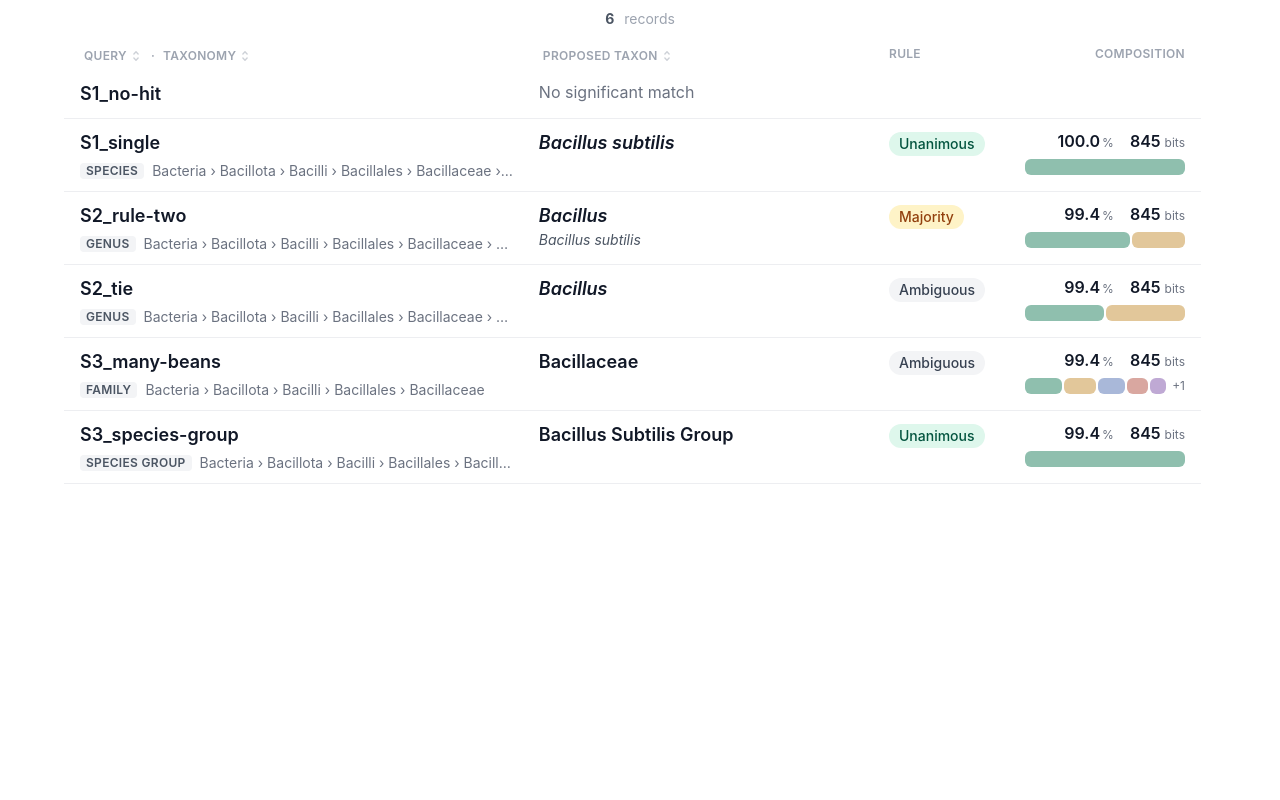
Test: Table › clicking a query opens the consensus modal; Close dismisses it
The width and height of the screenshot is (1280, 800).
Click the button "S2_rule-two": [133, 216] box [80,202,186,230]
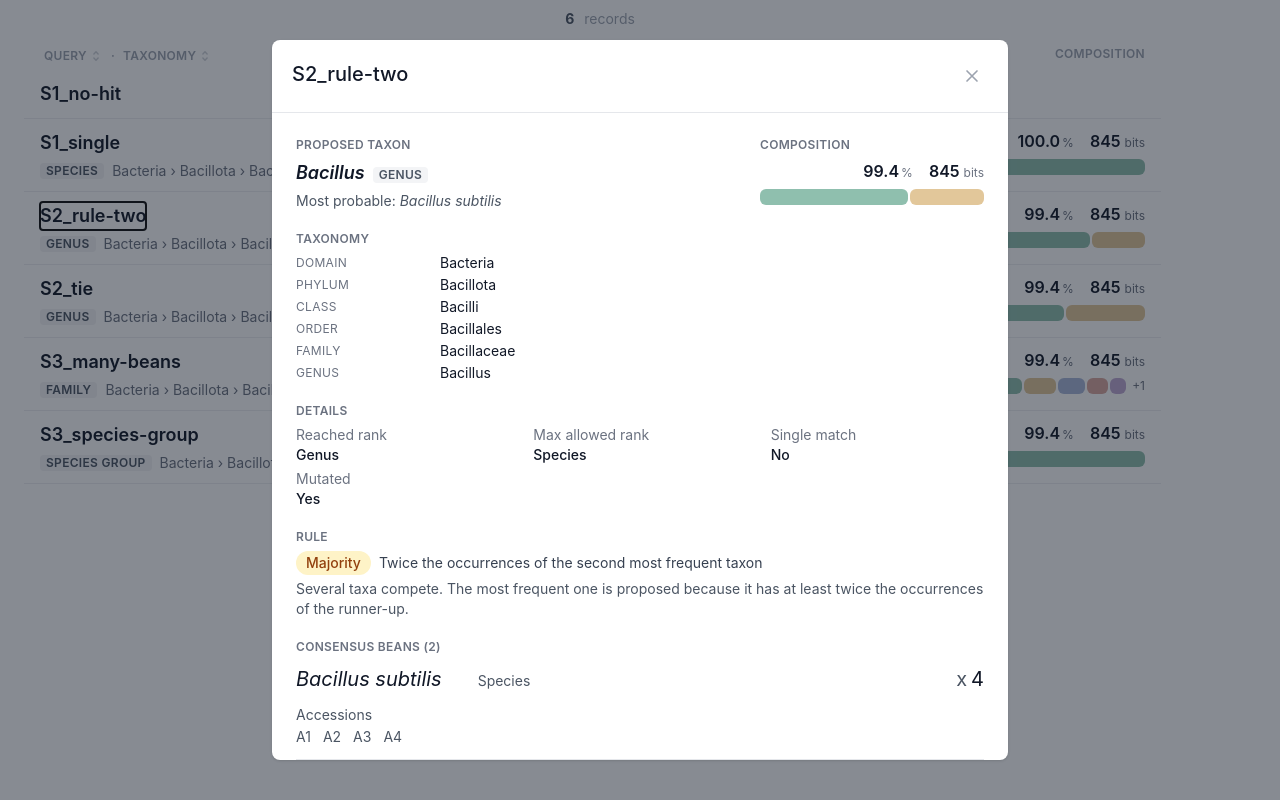
expect the heading "S2_rule-two" is shown: met, box [292,62,408,86]
expect the text "A1" is shown: met, box [296,727,311,747]
Click the button named "Close": [972, 76] box [956,60,988,92]
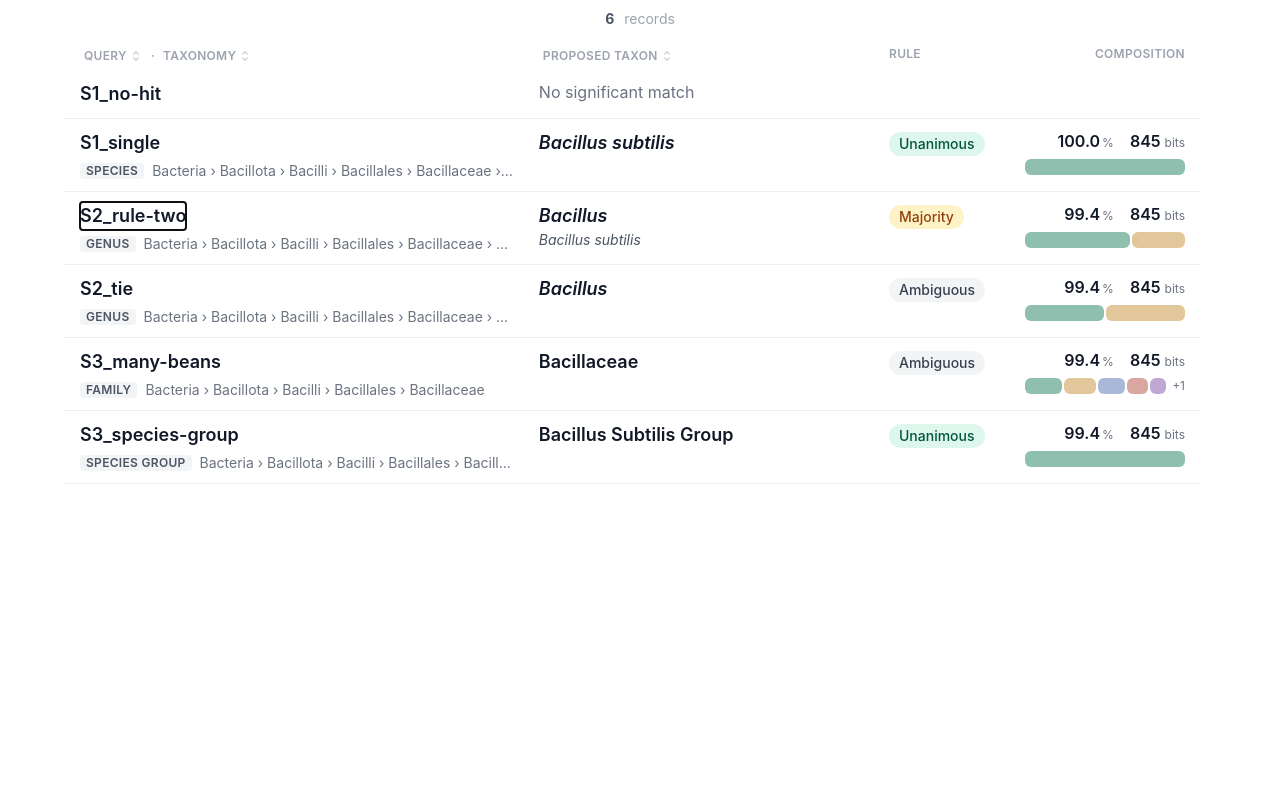
expect the dialog is gone: met
